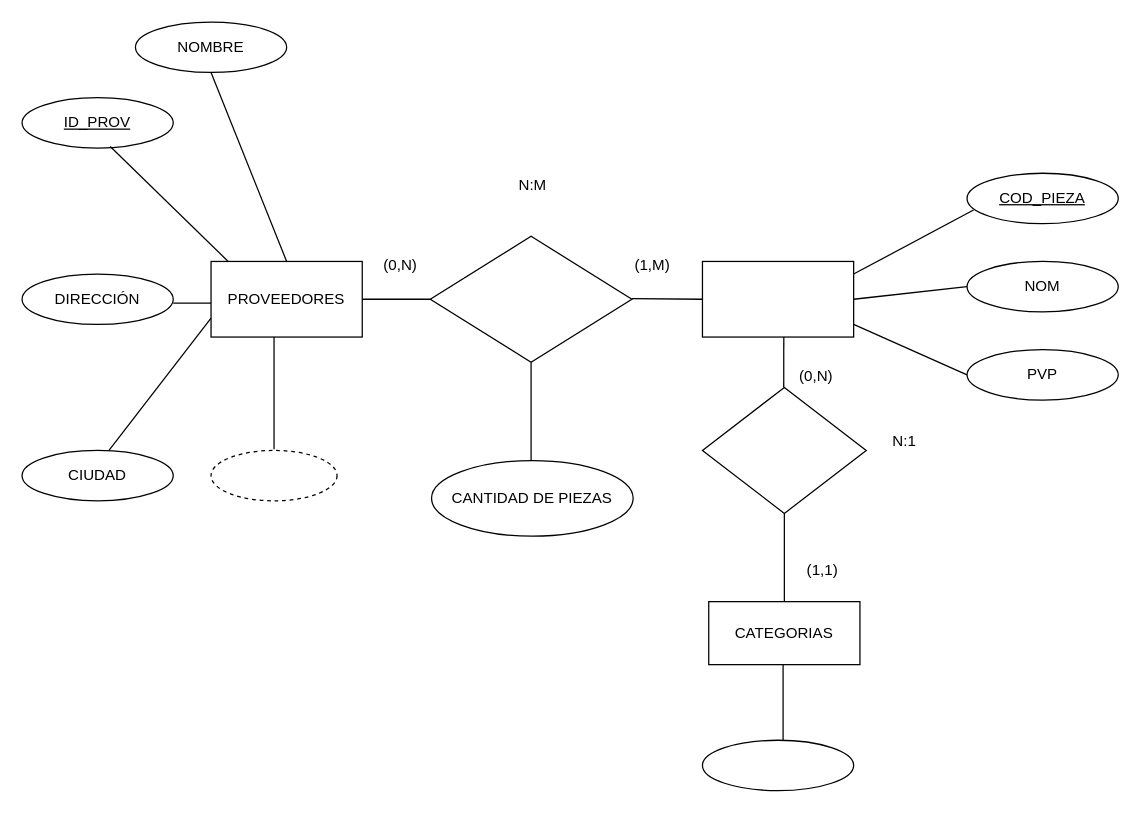
Some shapes in this 1140 by 813 pixel diagram are drawn without their labels. Here are the shapes that lost their labels. From the top down, the centre of each, then its label:
(530,298): SUMINISTRAR VENDER
(777,298): PIEZAS
(783,449): PERTENECEN
(273,475): PROVINCIA
(777,765): NOM_CAT
